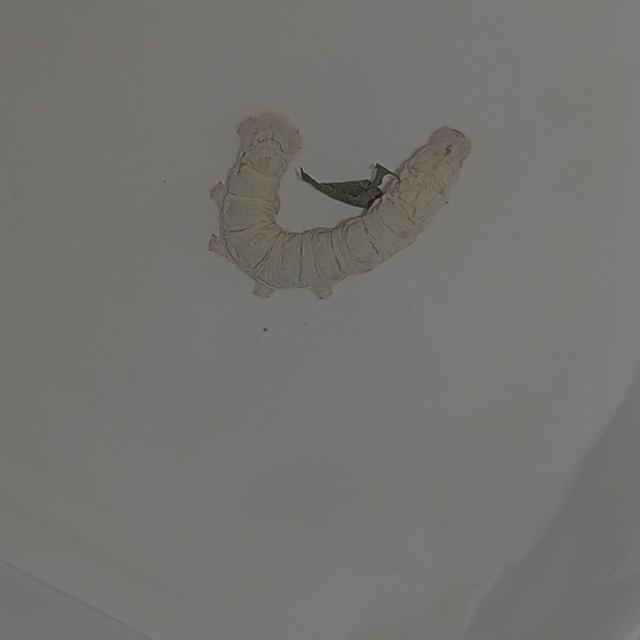Healthy: (195, 93, 482, 311)
